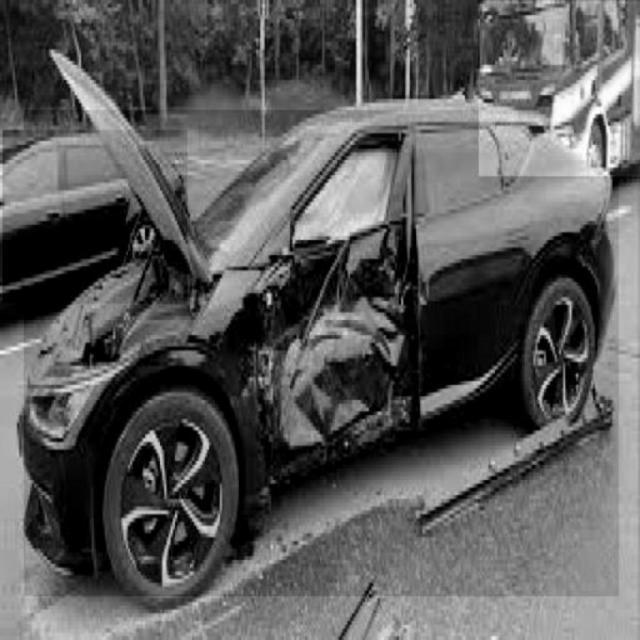vehicle: (24, 111, 618, 597), (3, 130, 188, 304), (479, 2, 639, 177)
